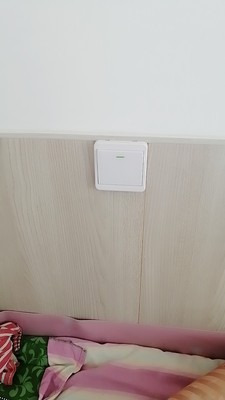switch: (91, 153, 150, 190)
